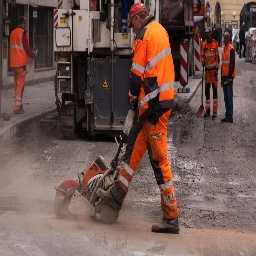no-helmet: (124, 4, 148, 28), (202, 26, 213, 36), (223, 31, 231, 43)
person: (116, 4, 186, 227), (9, 18, 34, 118), (199, 24, 222, 120), (220, 27, 238, 122)
vest: (125, 34, 179, 123), (10, 30, 32, 72), (199, 42, 221, 79), (222, 44, 237, 85)
